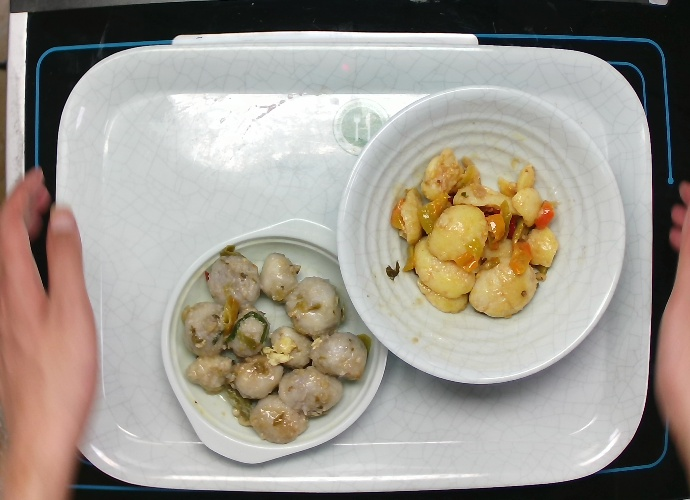JYsf-Shuang_Er_Pan: (161, 217, 393, 472)
JYsf-Xiao_Tang_Wan: (333, 92, 638, 388)
